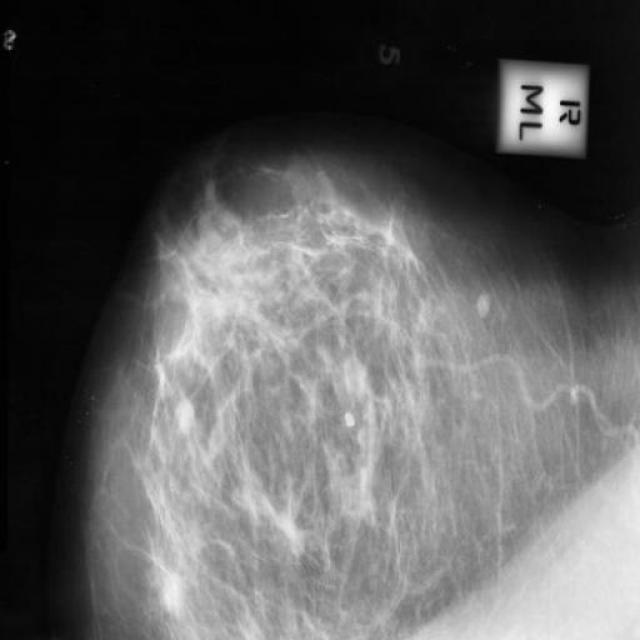cancer: (125, 518, 191, 614)
